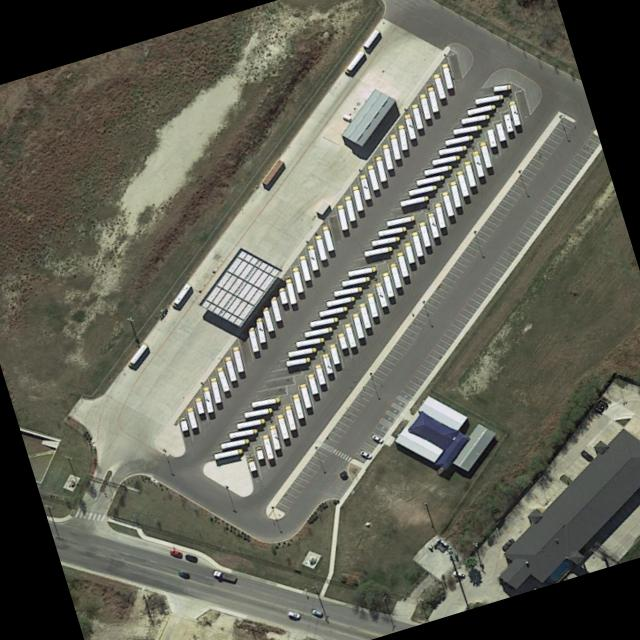large-vehicle: (168, 281, 190, 307), (125, 342, 147, 367), (341, 49, 363, 73), (211, 446, 242, 459), (372, 153, 386, 181), (413, 172, 443, 185), (406, 182, 436, 195), (384, 213, 414, 226), (318, 224, 333, 250), (259, 304, 273, 331), (289, 265, 303, 292), (304, 243, 318, 270), (274, 412, 288, 439), (465, 102, 494, 115), (424, 83, 437, 112), (213, 366, 228, 391), (289, 392, 303, 418), (282, 276, 295, 304), (267, 294, 281, 320), (244, 325, 258, 351), (296, 253, 310, 279), (259, 433, 273, 459), (431, 71, 444, 99), (417, 91, 430, 119), (409, 101, 422, 129), (349, 183, 362, 211), (506, 99, 520, 125), (316, 304, 346, 316), (361, 244, 391, 256), (331, 284, 361, 296), (442, 133, 472, 145), (241, 406, 271, 418), (226, 426, 256, 438), (478, 140, 491, 167), (470, 149, 483, 176), (454, 169, 467, 196), (230, 345, 243, 372), (313, 233, 326, 260), (402, 112, 415, 139), (379, 142, 392, 169), (365, 163, 378, 190), (372, 281, 386, 306), (342, 322, 356, 347), (346, 264, 375, 276), (339, 274, 368, 286), (324, 294, 353, 306), (302, 325, 331, 337), (286, 345, 315, 357), (422, 163, 451, 175), (249, 395, 278, 407), (234, 416, 263, 428), (218, 437, 249, 448), (394, 250, 407, 276), (387, 261, 400, 287), (356, 301, 369, 327), (350, 311, 363, 337), (409, 230, 422, 256), (447, 180, 460, 206), (439, 190, 452, 216), (425, 211, 438, 237), (282, 404, 295, 430), (252, 316, 265, 342), (357, 173, 370, 199), (342, 194, 355, 220), (208, 375, 220, 403), (307, 315, 337, 326), (293, 335, 323, 346), (397, 194, 427, 205), (380, 271, 393, 296), (364, 291, 377, 316), (297, 382, 310, 407), (461, 160, 474, 185), (210, 569, 235, 582), (439, 61, 451, 88), (387, 132, 399, 159), (361, 28, 378, 47), (369, 234, 398, 245), (459, 112, 488, 123), (451, 123, 480, 134), (437, 143, 466, 154), (430, 153, 459, 164), (432, 201, 444, 227), (417, 220, 429, 246), (334, 203, 346, 229), (375, 225, 406, 235), (472, 93, 502, 103), (222, 355, 234, 380), (267, 424, 279, 449), (201, 385, 212, 412), (283, 355, 309, 366), (183, 406, 196, 427), (401, 240, 413, 262), (396, 123, 406, 149), (312, 363, 324, 384), (305, 372, 317, 393), (320, 351, 331, 373), (327, 342, 338, 363), (493, 119, 504, 140), (501, 112, 512, 131), (485, 127, 495, 147)
small-vehicle: (499, 536, 514, 550), (578, 449, 593, 461), (167, 547, 182, 557), (183, 552, 197, 562), (285, 609, 300, 618), (369, 433, 382, 443), (358, 449, 371, 458), (309, 607, 321, 616), (176, 570, 188, 578), (451, 569, 464, 576)
